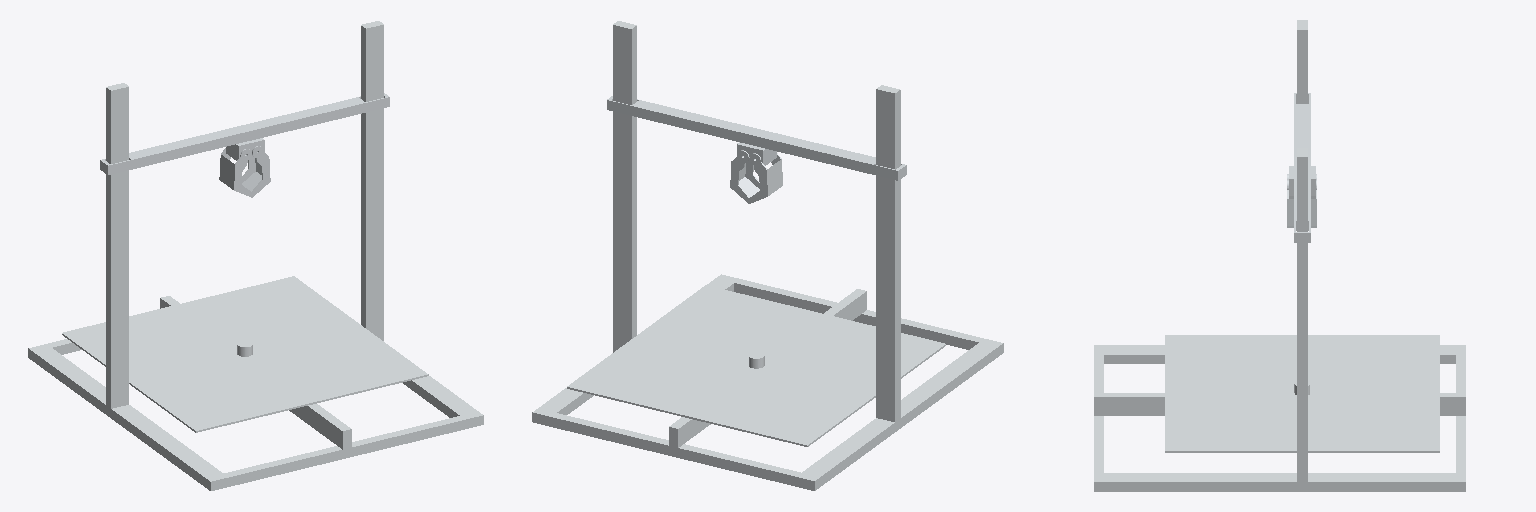
robot.urdf — GantryAssembly_URDF.SLDASM:
<?xml version="1.0" encoding="utf-8"?>
<!-- This URDF was automatically created by SolidWorks to URDF Exporter! Originally created by [author] ([email redacted]) 
     Commit Version: 1.6.0-4-g7f85cfe  Build Version: 1.6.7995.38578
     For more information, please see http://wiki.ros.org/sw_urdf_exporter -->
<robot
  name="GantryAssembly_URDF.SLDASM">
  <link
    name="base_link">
    <inertial>
      <origin
        xyz="-1.7244E-16 0.017902 0.041985"
        rpy="0 0 0" />
      <mass
        value="5.7776" />
      <inertia
        ixx="0.32319"
        ixy="3.4335E-19"
        ixz="-1.4897E-16"
        iyy="0.59578"
        iyz="6.1104E-18"
        izz="0.27326" />
    </inertial>
    <visual>
      <origin
        xyz="0 0 0"
        rpy="0 0 0" />
      <geometry>
        <mesh
          filename="package://GantryAssembly_URDF.SLDASM/meshes/base_link.STL" />
      </geometry>
      <material
        name="">
        <color
          rgba="0.89804 0.91765 0.92941 1" />
      </material>
    </visual>
    <collision>
      <origin
        xyz="0 0 0"
        rpy="0 0 0" />
      <geometry>
        <mesh
          filename="package://GantryAssembly_URDF.SLDASM/meshes/base_link.STL" />
      </geometry>
    </collision>
  </link>
  <link
    name="LeftUpright">
    <inertial>
      <origin
        xyz="-0.28158 0.35631 -0.041985"
        rpy="0 0 0" />
      <mass
        value="1.4886" />
      <inertia
        ixx="0.056019"
        ixy="1.7816E-18"
        ixz="1.5056E-19"
        iyy="0.00025146"
        iyz="2.4679E-19"
        izz="0.056166" />
    </inertial>
    <visual>
      <origin
        xyz="0 0 0"
        rpy="0 0 0" />
      <geometry>
        <mesh
          filename="package://GantryAssembly_URDF.SLDASM/meshes/LeftUpright.STL" />
      </geometry>
      <material
        name="">
        <color
          rgba="0.89804 0.91765 0.92941 1" />
      </material>
    </visual>
    <collision>
      <origin
        xyz="0 0 0"
        rpy="0 0 0" />
      <geometry>
        <mesh
          filename="package://GantryAssembly_URDF.SLDASM/meshes/LeftUpright.STL" />
      </geometry>
    </collision>
  </link>
  <joint
    name="LeftUprightJoint"
    type="fixed">
    <origin
      xyz="0 -0.0419850000000002 0"
      rpy="1.5707963267949 0 0" />
    <parent
      link="base_link" />
    <child
      link="LeftUpright" />
    <axis
      xyz="0 0 0" />
  </joint>
  <link
    name="ZBar">
    <inertial>
      <origin
        xyz="2.2921E-15 0.010235 -0.041985"
        rpy="0 0 0" />
      <mass
        value="0.92261" />
      <inertia
        ixx="0.00010656"
        ixy="-4.2485E-20"
        ixz="3.0185E-18"
        iyy="0.023961"
        iyz="2.4839E-21"
        izz="0.023919" />
    </inertial>
    <visual>
      <origin
        xyz="0 0 0"
        rpy="0 0 0" />
      <geometry>
        <mesh
          filename="package://GantryAssembly_URDF.SLDASM/meshes/ZBar.STL" />
      </geometry>
      <material
        name="">
        <color
          rgba="0.89412 0.91373 0.92941 1" />
      </material>
    </visual>
    <collision>
      <origin
        xyz="0 0 0"
        rpy="0 0 0" />
      <geometry>
        <mesh
          filename="package://GantryAssembly_URDF.SLDASM/meshes/ZBar.STL" />
      </geometry>
    </collision>
  </link>
  <joint
    name="ZBar_Joint"
    type="prismatic">
    <origin
      xyz="0 0.51796 0"
      rpy="0 0 0" />
    <parent
      link="LeftUpright" />
    <child
      link="ZBar" />
    <axis
      xyz="0 1 0" />
    <limit
      lower="-0.5"
      upper="0"
      effort="0"
      velocity="0" />
  </joint>
  <link
    name="GrasperBase">
    <inertial>
      <origin
        xyz="-0.028605 0.017479 3.0418E-16"
        rpy="0 0 0" />
      <mass
        value="0.26347" />
      <inertia
        ixx="8.1922E-05"
        ixy="-4.6116E-22"
        ixz="-1.6378E-21"
        iyy="0.00012733"
        iyz="-2.6012E-23"
        izz="9.9473E-05" />
    </inertial>
    <visual>
      <origin
        xyz="0 0 0"
        rpy="0 0 0" />
      <geometry>
        <mesh
          filename="package://GantryAssembly_URDF.SLDASM/meshes/GrasperBase.STL" />
      </geometry>
      <material
        name="">
        <color
          rgba="0.89412 0.91373 0.92941 1" />
      </material>
    </visual>
    <collision>
      <origin
        xyz="0 0 0"
        rpy="0 0 0" />
      <geometry>
        <mesh
          filename="package://GantryAssembly_URDF.SLDASM/meshes/GrasperBase.STL" />
      </geometry>
    </collision>
  </link>
  <joint
    name="GrasperBase"
    type="prismatic">
    <origin
      xyz="0.0286049999998313 -0.0348000000000001 -0.0419850000000004"
      rpy="0 0 0" />
    <parent
      link="ZBar" />
    <child
      link="GrasperBase" />
    <axis
      xyz="1 0 0" />
    <limit
      lower="-0.2"
      upper="0.2"
      effort="0"
      velocity="0" />
  </joint>
  <link
    name="LeftGrasper">
	<contact>
      <friction_anchor/>
      <stiffness value="30000.0"/>
      <damping value="1000.0"/>
      <spinning_friction value="1.0"/>
      <lateral_friction value="10"/>
    </contact>
    <inertial>
      <origin
        xyz="0.0079584 -0.005516 4.0088E-17"
        rpy="0 0 0" />
      <mass
        value="0.32377" />
      <inertia
        ixx="0.0001606"
        ixy="1.9853E-06"
        ixz="-8.7326E-21"
        iyy="0.00016454"
        iyz="2.2032E-20"
        izz="0.00015702" />
    </inertial>
    <visual>
      <origin
        xyz="0 0 0"
        rpy="0 0 0" />
      <geometry>
        <mesh
          filename="package://GantryAssembly_URDF.SLDASM/meshes/LeftGrasper.STL" />
      </geometry>
      <material
        name="">
        <color
          rgba="0.89412 0.91373 0.92941 1" />
      </material>
    </visual>
    <collision>
      <origin
        xyz="0 0 0"
        rpy="0 0 0" />
      <geometry>
        <mesh
          filename="package://GantryAssembly_URDF.SLDASM/meshes/LeftGrasper.STL" />
      </geometry>
    </collision>
  </link>
  <joint
    name="LeftGrasperJoint"
    type="continuous">
    <origin
      xyz="-0.0413250000000025 0.0134499999999999 0"
      rpy="0 0 0" />
    <parent
      link="GrasperBase" />
    <child
      link="LeftGrasper" />
    <axis
      xyz="0 0 1" />
    <limit
      lower="-1"
      upper="0"
      effort="0"
      velocity="0" />
    <dynamics
      damping="0"
      friction="0" />
  </joint>
  <link
    name="RightGrasper">
	<contact>
      <friction_anchor/>
      <stiffness value="30000.0"/>
      <damping value="1000.0"/>
      <spinning_friction value="1.0"/>
      <lateral_friction value="10.0"/>
    </contact>
    <inertial>
      <origin
        xyz="-0.0085205 -0.0046005 3.0896E-16"
        rpy="0 0 0" />
      <mass
        value="0.32377" />
      <inertia
        ixx="0.00016021"
        ixy="-1.5024E-06"
        ixz="8.1051E-21"
        iyy="0.00016493"
        iyz="-6.2917E-20"
        izz="0.00015702" />
    </inertial>
    <visual>
      <origin
        xyz="0 0 0"
        rpy="0 0 0" />
      <geometry>
        <mesh
          filename="package://GantryAssembly_URDF.SLDASM/meshes/RightGrasper.STL" />
      </geometry>
      <material
        name="">
        <color
          rgba="0.89412 0.91373 0.92941 1" />
      </material>
    </visual>
    <collision>
      <origin
        xyz="0 0 0"
        rpy="0 0 0" />
      <geometry>
        <mesh
          filename="package://GantryAssembly_URDF.SLDASM/meshes/RightGrasper.STL" />
      </geometry>
    </collision>
  </link>
  <joint
    name="RightGrasperJoint"
    type="continuous">
    <origin
      xyz="-0.0158850000000049 0.0134499999999997 0"
      rpy="0 0 0.110997010491433" />
    <parent
      link="GrasperBase" />
    <child
      link="RightGrasper" />
    <axis
      xyz="0 0 1" />
    <limit
      lower="0"
      upper="1"
      effort="0"
      velocity="0" />
    <dynamics
      damping="0"
      friction="0" />
  </joint>
  <link
    name="RightUpright">
    <inertial>
      <origin
        xyz="0.28158 0.35631 -0.041985"
        rpy="0 0 0" />
      <mass
        value="1.4886" />
      <inertia
        ixx="0.056019"
        ixy="4.5192E-18"
        ixz="-1.7188E-19"
        iyy="0.00025146"
        iyz="1.2808E-18"
        izz="0.056166" />
    </inertial>
    <visual>
      <origin
        xyz="0 0 0"
        rpy="0 0 0" />
      <geometry>
        <mesh
          filename="package://GantryAssembly_URDF.SLDASM/meshes/RightUpright.STL" />
      </geometry>
      <material
        name="">
        <color
          rgba="0.89804 0.91765 0.92941 1" />
      </material>
    </visual>
    <collision>
      <origin
        xyz="0 0 0"
        rpy="0 0 0" />
      <geometry>
        <mesh
          filename="package://GantryAssembly_URDF.SLDASM/meshes/RightUpright.STL" />
      </geometry>
    </collision>
  </link>
  <joint
    name="RightUprightJoint"
    type="fixed">
    <origin
      xyz="0 -0.0419850000000002 0"
      rpy="1.5707963267949 0 0" />
    <parent
      link="base_link" />
    <child
      link="RightUpright" />
    <axis
      xyz="0 0 0" />
    <limit
      lower="-0.5"
      upper="0.5"
      effort="0"
      velocity="0" />
    <dynamics
      damping="0"
      friction="0" />
  </joint>
  <link
    name="BasePlate">
    <inertial>
      <origin
        xyz="6.7623E-17 0.00191 -0.25718"
        rpy="0 0 0" />
      <mass
        value="2.7286" />
      <inertia
        ixx="0.06016"
        ixy="-2.384E-20"
        ixz="-5.0162E-18"
        iyy="0.12031"
        iyz="8.2033E-36"
        izz="0.06016" />
    </inertial>
    <visual>
      <origin
        xyz="0 0 0"
        rpy="0 0 0" />
      <geometry>
        <mesh
          filename="package://GantryAssembly_URDF.SLDASM/meshes/BasePlate.STL" />
      </geometry>
      <material
        name="">
        <color
          rgba="0.89804 0.91765 0.92941 1" />
      </material>
    </visual>
    <collision>
      <origin
        xyz="0 0 0"
        rpy="0 0 0" />
      <geometry>
        <mesh
          filename="package://GantryAssembly_URDF.SLDASM/meshes/BasePlate.STL" />
      </geometry>
    </collision>
  </link>
  <joint
    name="BasePlateJoint"
    type="prismatic">
    <origin
      xyz="0 -0.257175 0.05914"
      rpy="1.5707963267949 0 0" />
    <parent
      link="base_link" />
    <child
      link="BasePlate" />
    <axis
      xyz="0 0 1" />
    <limit
      lower="-0.3"
      upper="0.3"
      effort="0"
      velocity="0" />
    <dynamics
      damping="0"
      friction="3" />
  </joint>
  <link
    name="ObjectBase">
    <inertial>
      <origin
        xyz="2.3079E-50 0.01 3.0679E-19"
        rpy="0 0 0" />
      <mass
        value="0.03817" />
      <inertia
        ixx="3.4194E-06"
        ixy="-1.1064E-38"
        ixz="5.1616E-54"
        iyy="4.2942E-06"
        iyz="-3.4866E-39"
        izz="3.4194E-06" />
    </inertial>
    <visual>
      <origin
        xyz="0 0 0"
        rpy="0 0 0" />
      <geometry>
        <mesh
          filename="package://GantryAssembly_URDF.SLDASM/meshes/ObjectBase.STL" />
      </geometry>
      <material
        name="">
        <color
          rgba="0.89804 0.91765 0.92941 1" />
      </material>
    </visual>
    <collision>
      <origin
        xyz="0 0 0"
        rpy="0 0 0" />
      <geometry>
        <mesh
          filename="package://GantryAssembly_URDF.SLDASM/meshes/ObjectBase.STL" />
      </geometry>
    </collision>
  </link>
  <joint
    name="ObjectBaseJoint"
    type="fixed">
    <origin
      xyz="0 0.00382 -0.25718"
      rpy="0 0 0" />
    <parent
      link="BasePlate" />
    <child
      link="ObjectBase" />
    <axis
      xyz="0 1 0" />
  </joint>
</robot>

--- What the picture shows (computed from the rendered views, not written in the file) ---
Views: 3 orthographic renders of the robot side by side, from view 1: azimuth 30°, elevation 25°; view 2: azimuth 150°, elevation 25°; view 3: azimuth 270°, elevation 25°.
Model GantryAssembly_URDF.SLDASM with 9 links and 8 joints (2 continuous, 3 prismatic, 3 fixed), rooted at base_link, posed every joint at zero.
Visible links, largest first — view 1: BasePlate, base_link, LeftUpright, RightUpright, ZBar, RightGrasper, LeftGrasper; view 2: BasePlate, base_link, LeftUpright, RightUpright, ZBar, RightGrasper, LeftGrasper; view 3: BasePlate, base_link, RightUpright, ZBar, LeftUpright.
Boxes of the visible links, box(x1,y1,x2,y2) form: BasePlate: box(62, 276, 428, 432); base_link: box(28, 296, 483, 490); LeftUpright: box(106, 83, 128, 408); RightUpright: box(361, 21, 383, 340); ZBar: box(100, 93, 389, 174); RightGrasper: box(242, 146, 270, 197); LeftGrasper: box(219, 148, 251, 197); BasePlate: box(567, 285, 945, 446); base_link: box(532, 274, 1003, 490); LeftUpright: box(876, 85, 900, 421); RightUpright: box(613, 21, 636, 352); ZBar: box(607, 96, 906, 180); RightGrasper: box(730, 150, 759, 203); LeftGrasper: box(749, 153, 782, 203); BasePlate: box(1165, 335, 1439, 452); base_link: box(1094, 345, 1465, 491); RightUpright: box(1297, 148, 1307, 481); ZBar: box(1294, 93, 1310, 242); LeftUpright: box(1297, 20, 1307, 103).
Bounding box of the posed robot: 0.6233 × 0.6985 × 0.6921 m (x, y, z).
Meshes: 9 distinct files referenced, 9 mesh visuals loaded (9 binary STL).
